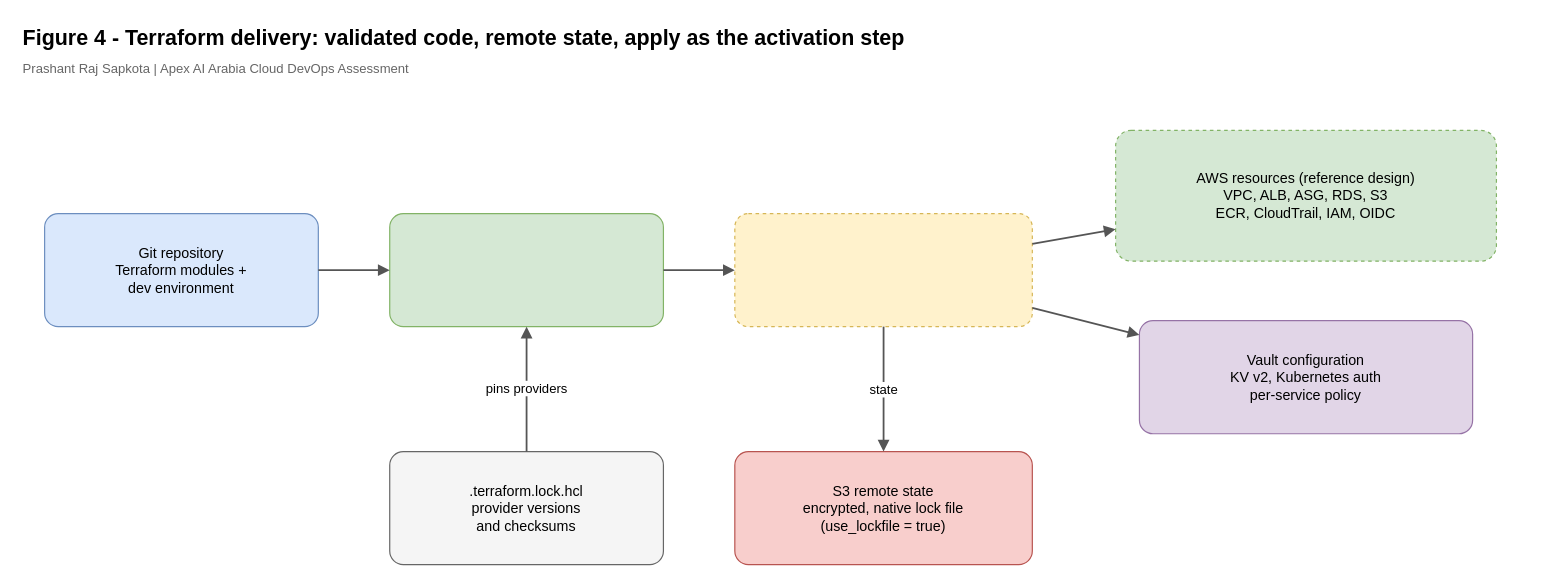
Image size: 1564x585. Some labels were removed from this diagram. The shapes that lost their labels are listed below. From the top down, each one's centre as x and y in pixels, then its label:
At point 526,269: "terraform fmt -check terraform validate PASSED".
At point 883,269: "terraform plan / apply apply = activation step once AWS account is attached".
